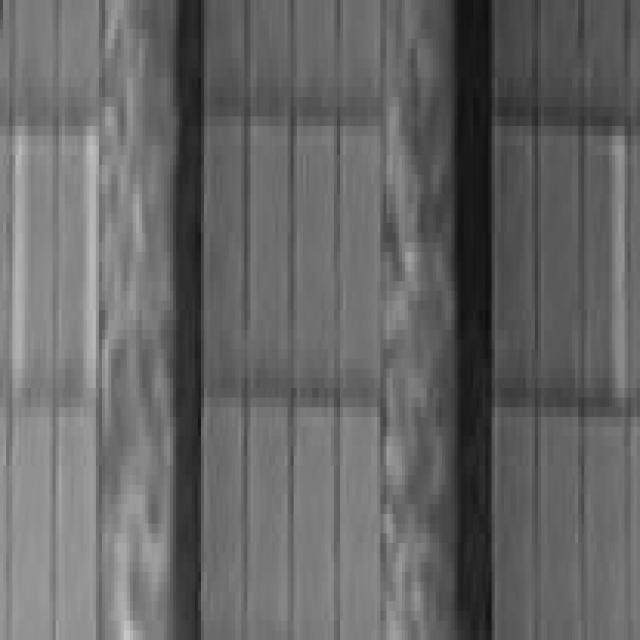Line Fault: (607, 123, 634, 406), (85, 134, 97, 390)
Panel: (199, 0, 383, 640), (488, 2, 640, 640), (2, 0, 104, 640)
